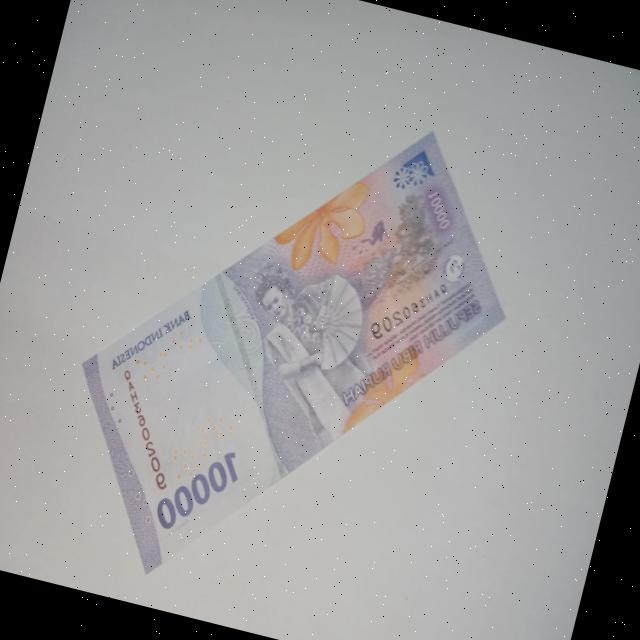10K: (31, 51, 551, 640)
